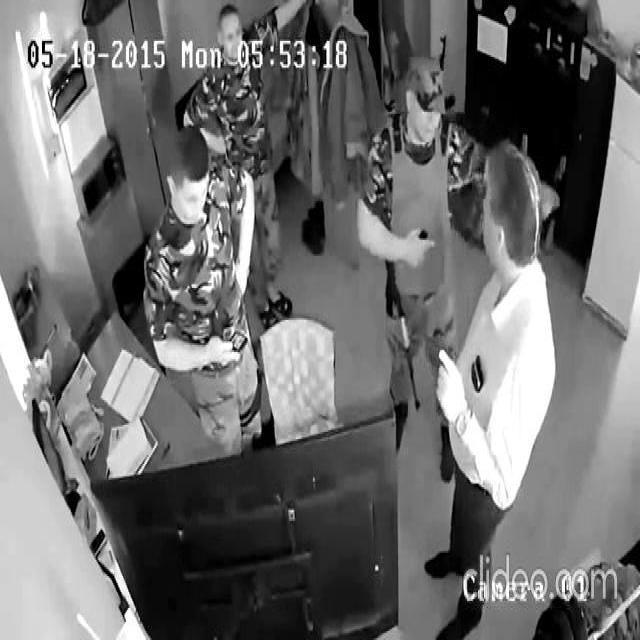pistol: (384, 254, 420, 412), (439, 31, 457, 115)
